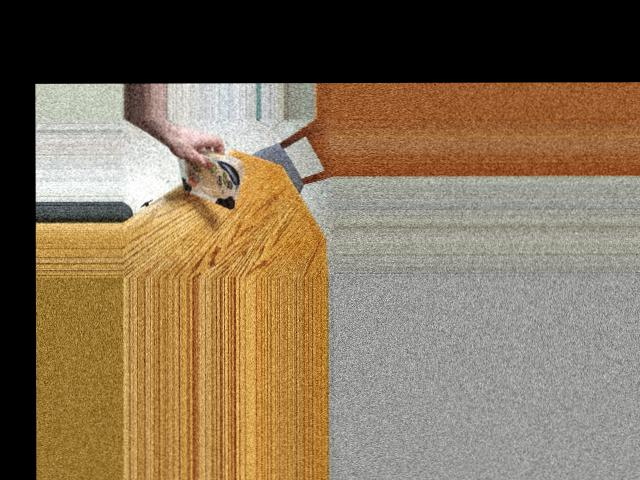cheese: (170, 153, 240, 204)
